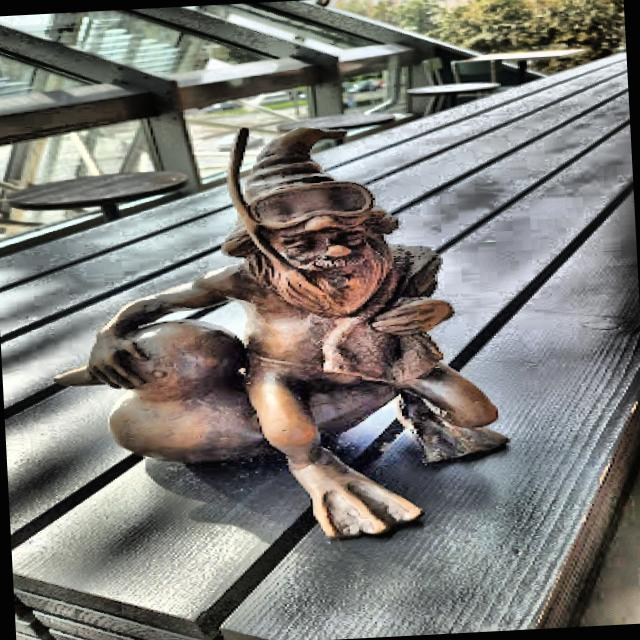Babelek_Chlaptus: (56, 128, 509, 536)
